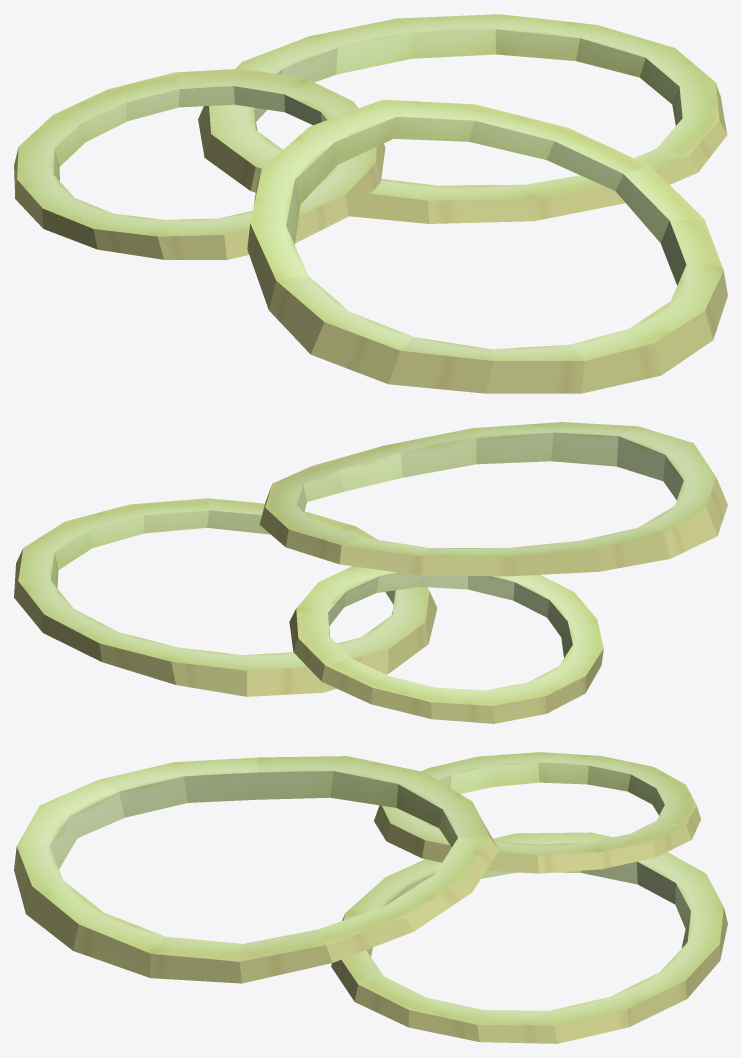
Rendered from OnionRings.fbx.
The picture shows the model from 3 angles, top to bottom: view 1: azimuth 30°, elevation 25°; view 2: azimuth 150°, elevation 25°; view 3: azimuth 270°, elevation 25°; orthographic projection. The views are drawn at different scales.
Visible parts, largest first — view 1: OnionRings; view 2: OnionRings; view 3: OnionRings.
Part boxes in pixels (x1=…): OnionRings: x1=14, y1=14, x2=727, y2=393; OnionRings: x1=14, y1=422, x2=727, y2=723; OnionRings: x1=14, y1=752, x2=727, y2=1043.
Size of the model in its own units: 29.42 by 3.9 by 32.38.
